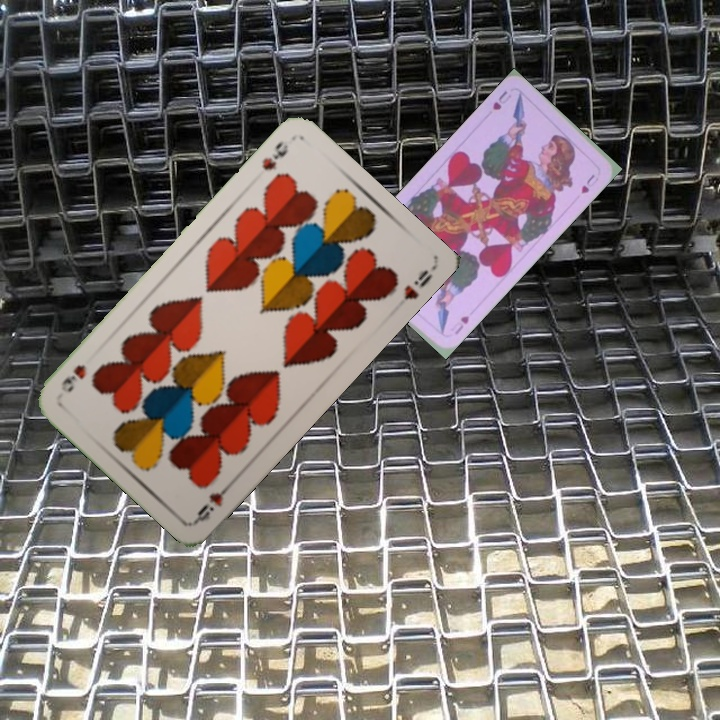H9: (192, 476, 238, 525), (257, 137, 291, 174)
HU: (488, 87, 514, 113), (447, 312, 472, 337)
